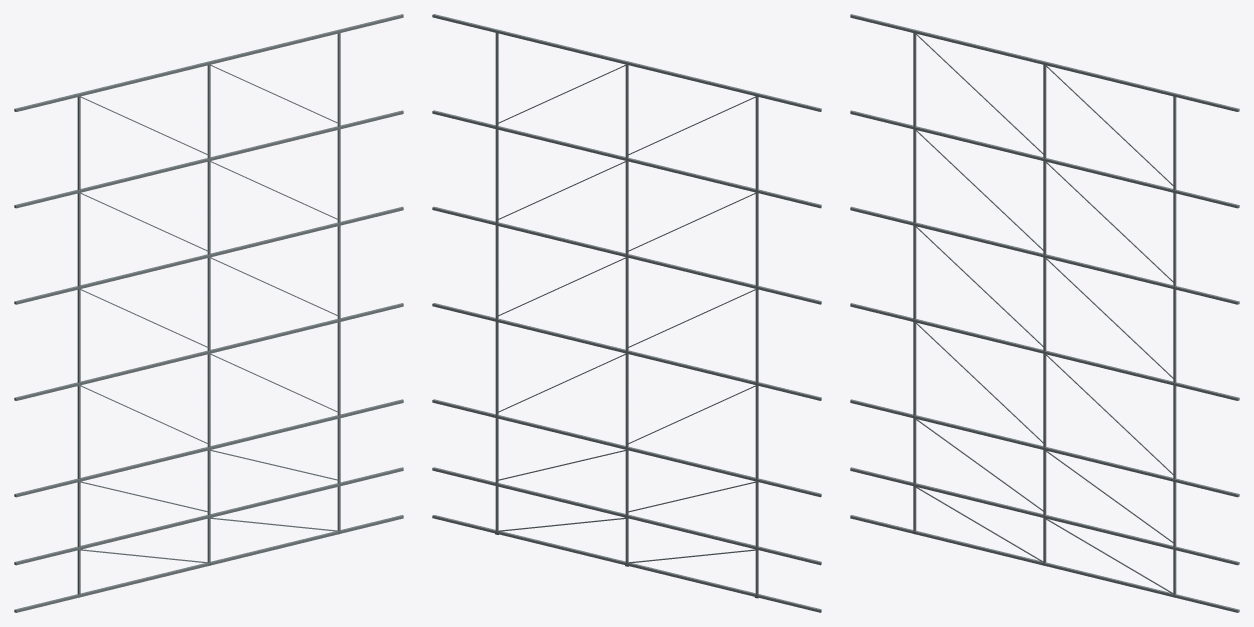
The model's file is G7_Completion_Prior_G7_MiddleExterior_E15_r001.glb.
The picture shows the model from 3 angles, left to right: view 1: azimuth 30°, elevation 25°; view 2: azimuth 150°, elevation 25°; view 3: azimuth 330°, elevation 25°; orthographic projection.
Parts seen in each view (by area): view 1: G7_MiddleExterior_E15_frame; view 2: G7_MiddleExterior_E15_frame; view 3: G7_MiddleExterior_E15_frame.
Part boxes in pixels (x1,y1,x2,y2): G7_MiddleExterior_E15_frame: [14, 14, 403, 612]; G7_MiddleExterior_E15_frame: [432, 14, 821, 612]; G7_MiddleExterior_E15_frame: [850, 14, 1239, 612].
Size of the model in its own units: 35.9 by 44.5 by 0.22.
2 materials, 2 textured.
